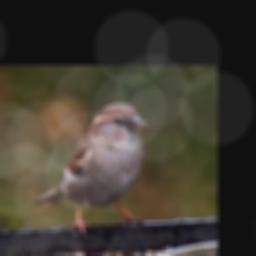Sparrow: (34, 101, 150, 239)
